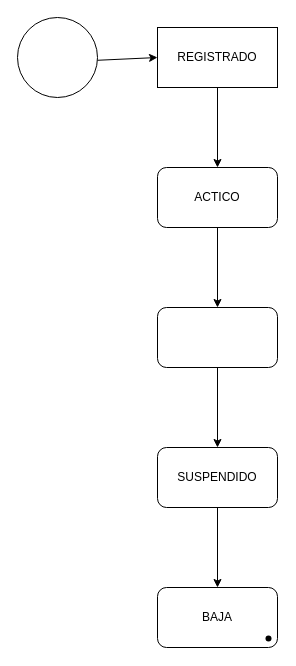
The diagram is 296 pixels wide and 666 high, and some of its shapes have lost their labels. Here are the shapes that lost their labels. From the top down, the centre of each, then its label:
At [57,57]: "ESTADO INICIAL".
At [217,337]: "VENCIDO".
